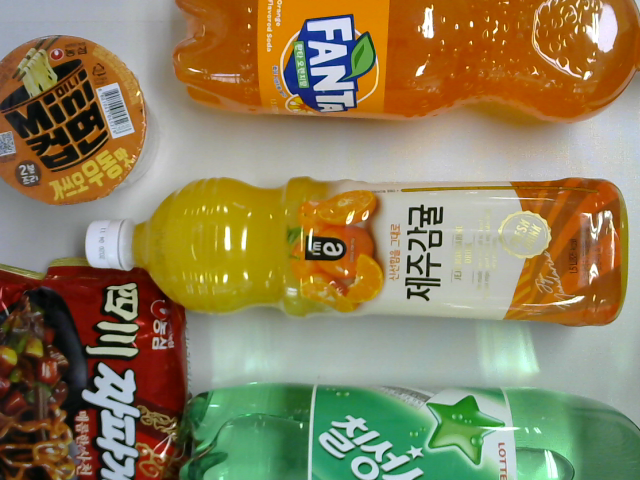Chilseong_Cider_1.5L: (182, 378, 640, 479)
Hwanta_Orange_1.5L: (173, 1, 640, 125)
Jeju_Tangerine_1.5L: (84, 176, 629, 326)
Sichuan_Chapaghetti: (1, 256, 193, 480)
Udongmini: (1, 34, 160, 205)
